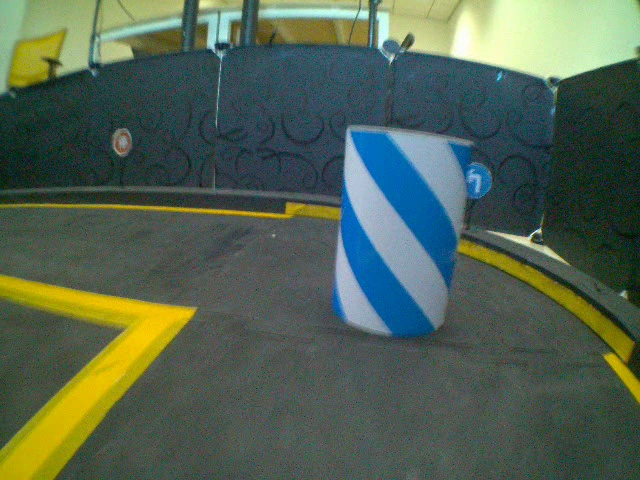bucket: (339, 122, 458, 339)
